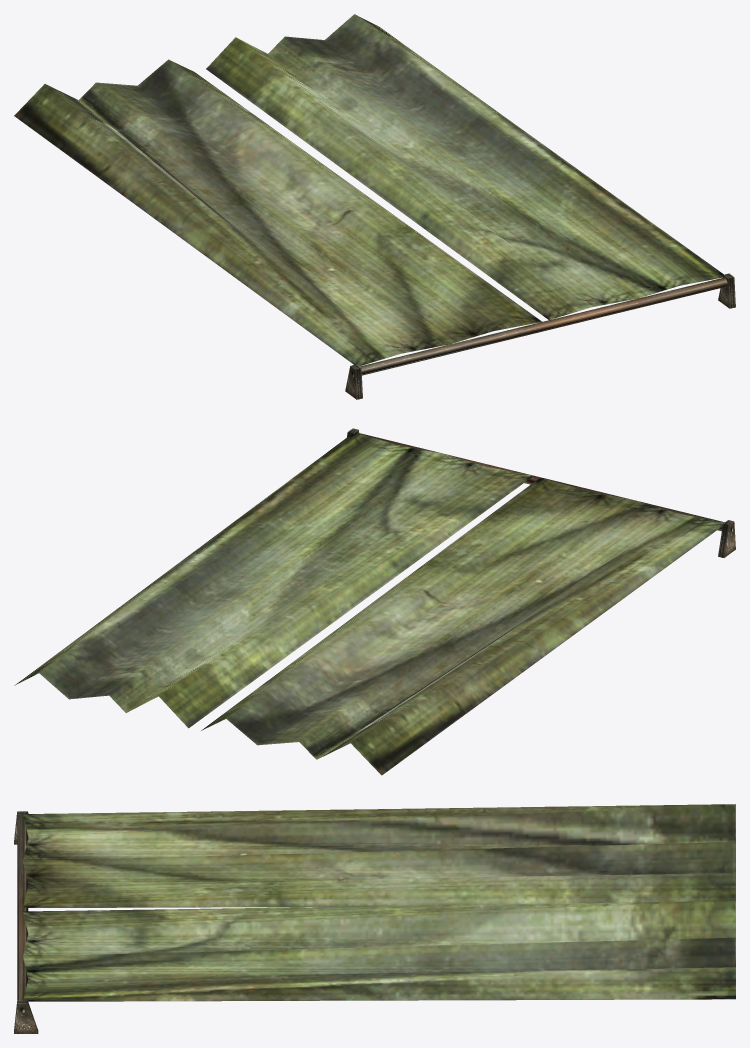
File: curtains_closed.fbx
3 views of the same model, one above another, from view 1: azimuth 30°, elevation 25°; view 2: azimuth 150°, elevation 25°; view 3: azimuth 270°, elevation 25° (orthographic). The views are drawn at different scales.
Visible parts, largest first — view 1: mesh_0; view 2: mesh_0; view 3: mesh_0.
Part boxes in pixels (x1,y1,x2,y2): mesh_0: [14, 14, 735, 399]; mesh_0: [14, 428, 735, 775]; mesh_0: [14, 804, 735, 1033].
Size of the model in its own units: 163 by 21.84 by 258.
Materials: 1 (1 with a texture image).
